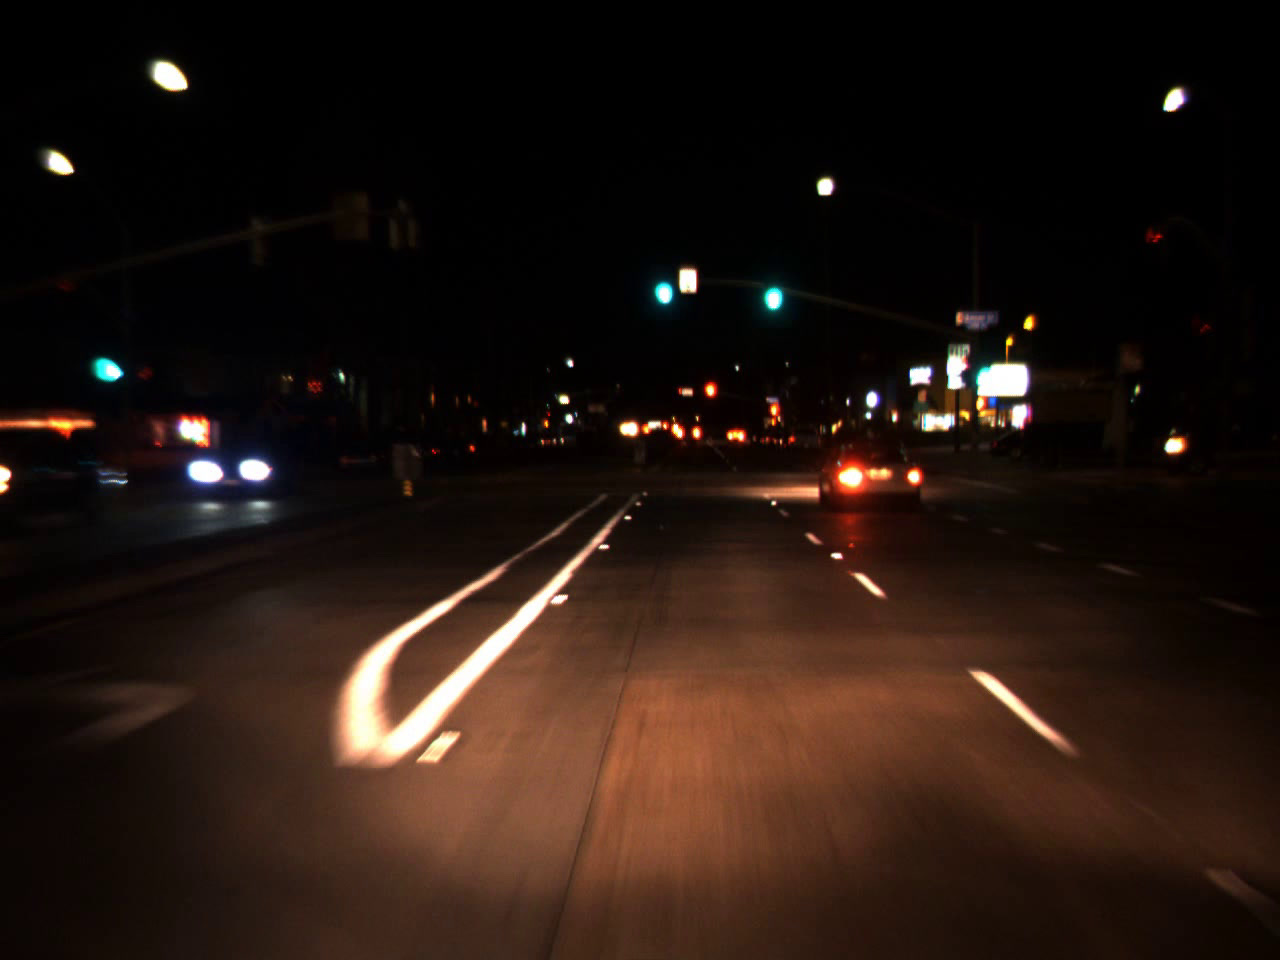go: (85, 327, 126, 390), (758, 258, 786, 318), (648, 255, 676, 312), (968, 348, 995, 390)
stop: (702, 378, 718, 418), (768, 400, 783, 432)
